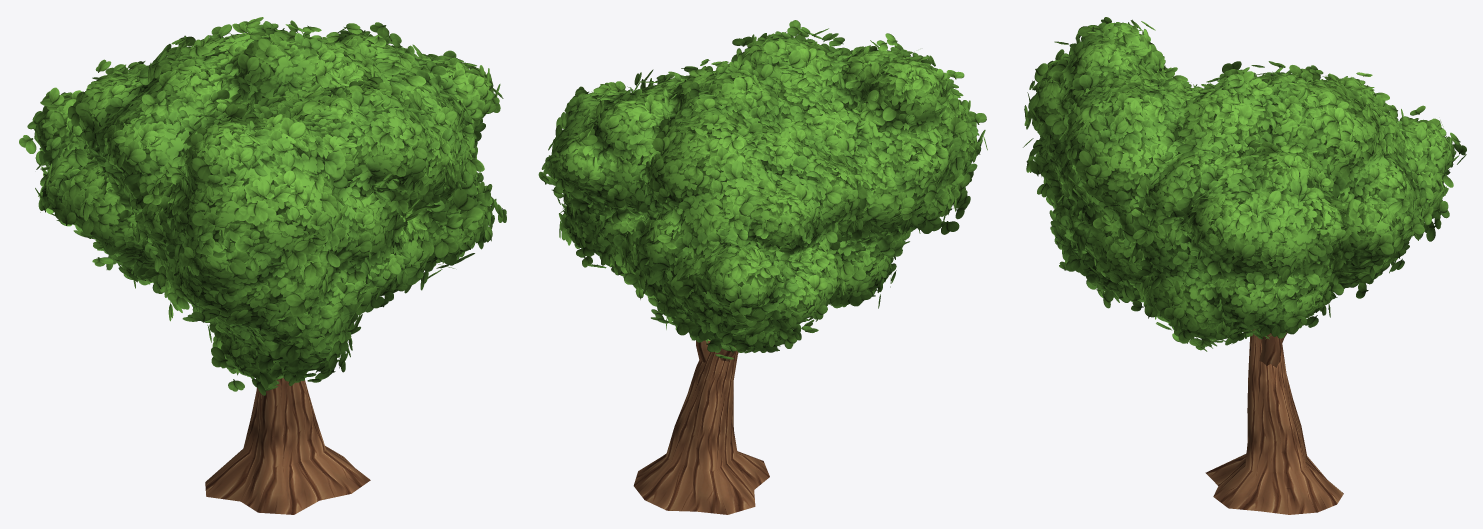
Rendered from maple_v2.glb.
The picture shows the model from 3 angles, left to right: view 1: azimuth 30°, elevation 25°; view 2: azimuth 150°, elevation 25°; view 3: azimuth 270°, elevation 25°; orthographic projection. The views are drawn at different scales.
Visible parts, largest first — view 1: maple_v2_leaves_LOD0, maple_v2_volume_LOD0, maple_v2_trunk_LOD0; view 2: maple_v2_leaves_LOD0, maple_v2_volume_LOD0, maple_v2_trunk_LOD0; view 3: maple_v2_leaves_LOD0, maple_v2_volume_LOD0, maple_v2_trunk_LOD0.
Part boxes in pixels (x1,y1,x2,y2): maple_v2_leaves_LOD0: [19, 17, 506, 395]; maple_v2_volume_LOD0: [34, 34, 493, 377]; maple_v2_trunk_LOD0: [205, 378, 370, 514]; maple_v2_leaves_LOD0: [538, 20, 987, 359]; maple_v2_volume_LOD0: [551, 36, 978, 347]; maple_v2_trunk_LOD0: [633, 340, 769, 514]; maple_v2_leaves_LOD0: [1023, 17, 1466, 351]; maple_v2_volume_LOD0: [1035, 27, 1452, 339]; maple_v2_trunk_LOD0: [1205, 329, 1343, 514].
Size of what is drawn, in the model's own units: 8.22 by 9.16 by 8.91.
Materials: 3 (3 with a texture image).
